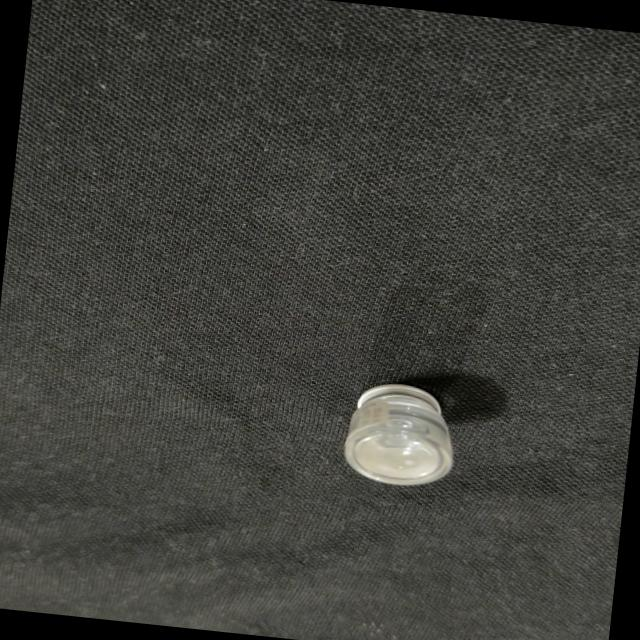fentanl_citrat: (343, 380, 458, 488)
